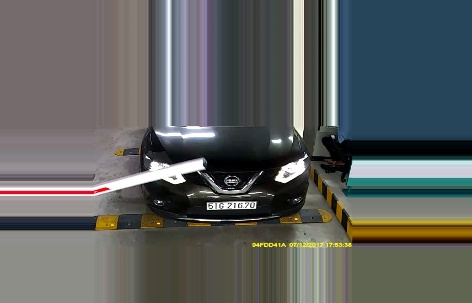plate: (205, 195, 256, 210)
